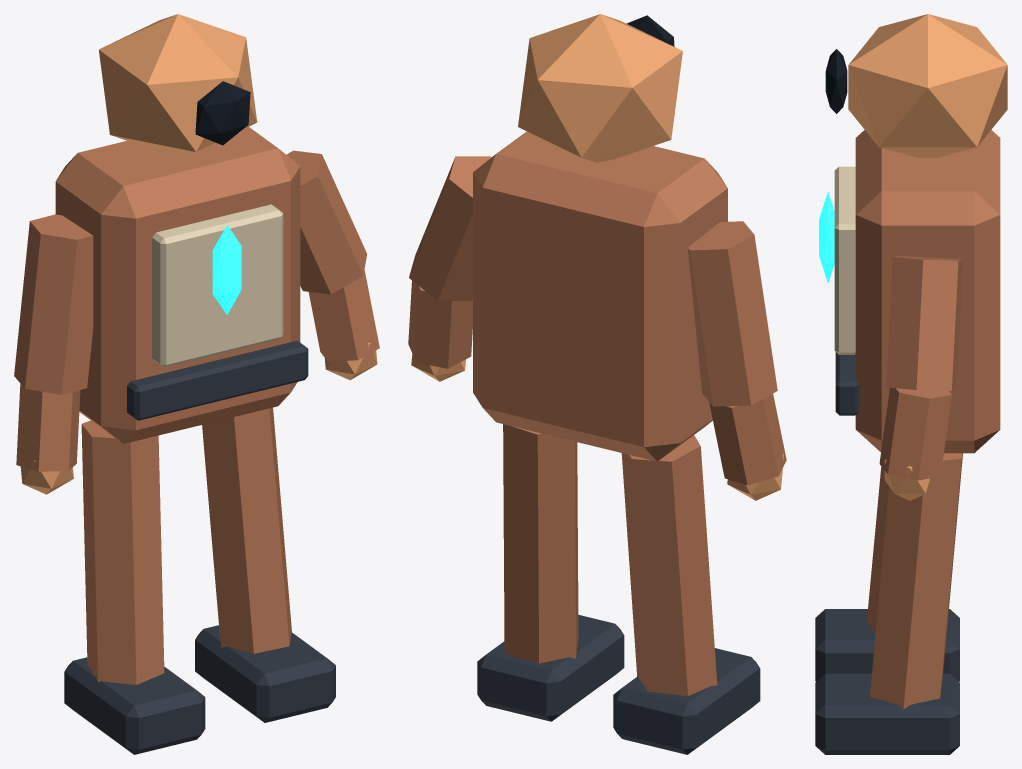
File: npcs_021_seed11.glb
3 views of the same model, side by side, from view 1: azimuth 30°, elevation 25°; view 2: azimuth 150°, elevation 25°; view 3: azimuth 270°, elevation 25° (orthographic). The views are drawn at different scales.
Parts seen in each view (by area): view 1: npcs_021_seed11; view 2: npcs_021_seed11; view 3: npcs_021_seed11.
Part boxes in pixels (x1,y1,x2,y2): npcs_021_seed11: (14,14,379,754); npcs_021_seed11: (408,14,786,754); npcs_021_seed11: (815,14,1007,754).
Bounding box in the file's own units: 0.9287 × 1.7 × 0.428.
